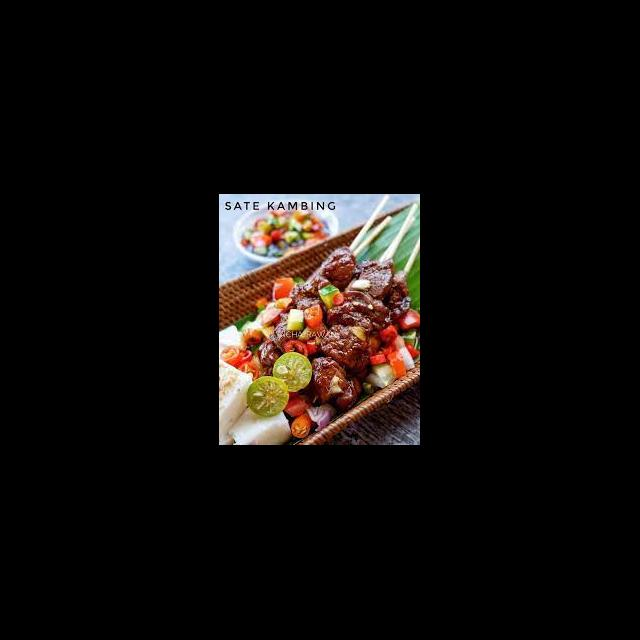food_waste: (253, 298, 366, 390)
